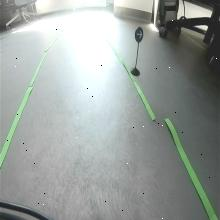right: (134, 25, 145, 44)
